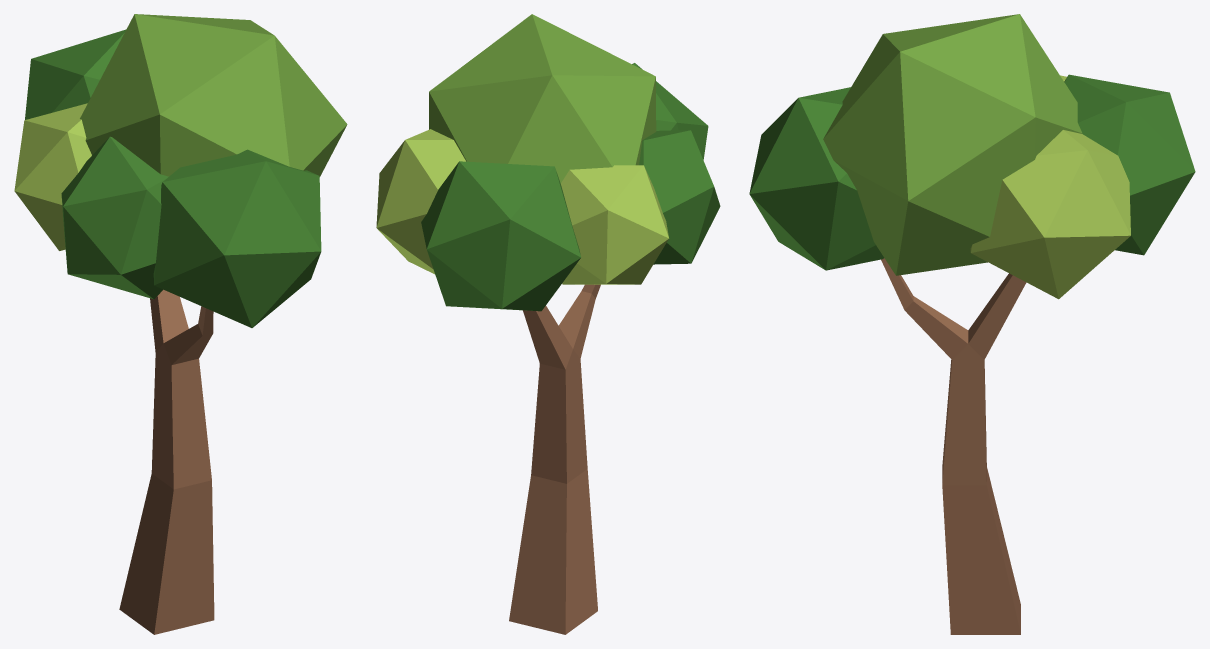
File: OakTree2.fbx
3 renders of one model, left to right at view 1: azimuth 30°, elevation 25°; view 2: azimuth 150°, elevation 25°; view 3: azimuth 270°, elevation 25°, orthographic. The views are drawn at different scales.
Visible parts, largest first — view 1: Leaves.003, Leaves, Cube, Leaves.001, Leaves.004, Leaves.002; view 2: Leaves.003, Cube, Leaves.002, Leaves.004, Leaves.001, Leaves.005, Leaves; view 3: Leaves.003, Cube, Leaves.005, Leaves, Leaves.002.
Boxes of the visible parts, x1,y1,x2,y2 form: Leaves.003: [80, 14, 347, 176]; Leaves: [153, 149, 321, 327]; Cube: [119, 289, 214, 634]; Leaves.001: [61, 136, 168, 299]; Leaves.004: [14, 103, 91, 250]; Leaves.002: [25, 29, 126, 119]; Leaves.003: [429, 14, 656, 183]; Cube: [509, 284, 600, 634]; Leaves.002: [421, 161, 580, 311]; Leaves.004: [561, 165, 668, 284]; Leaves.001: [639, 130, 720, 264]; Leaves.005: [376, 129, 465, 274]; Leaves: [632, 63, 708, 159]; Leaves.003: [823, 14, 1082, 275]; Cube: [881, 258, 1026, 634]; Leaves.005: [970, 130, 1130, 299]; Leaves: [749, 87, 883, 270]; Leaves.002: [1064, 74, 1195, 255].
Size of the model in its own units: 977 by 1885 by 1269.
